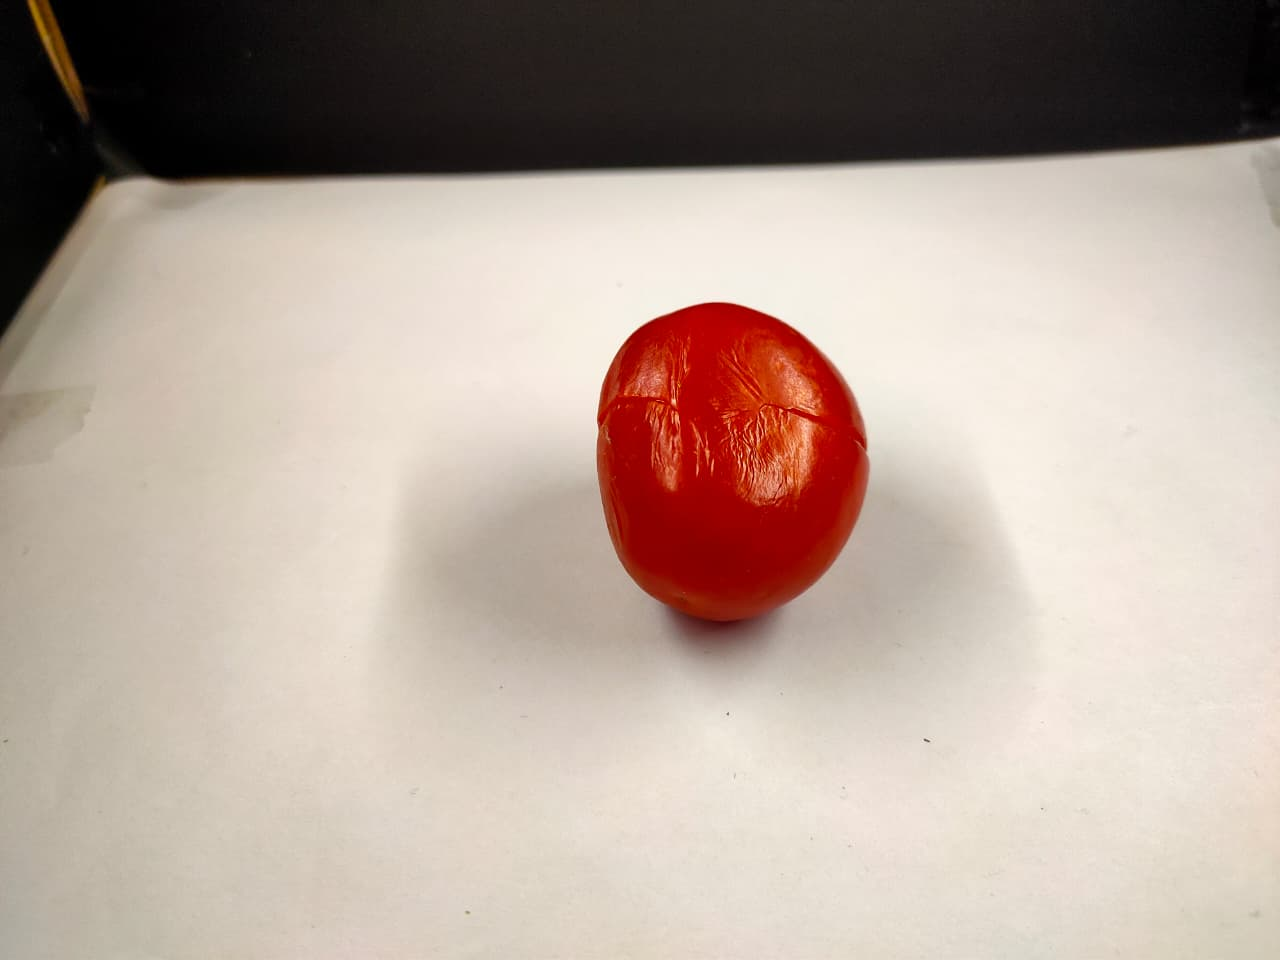damaged: (590, 301, 876, 632)
